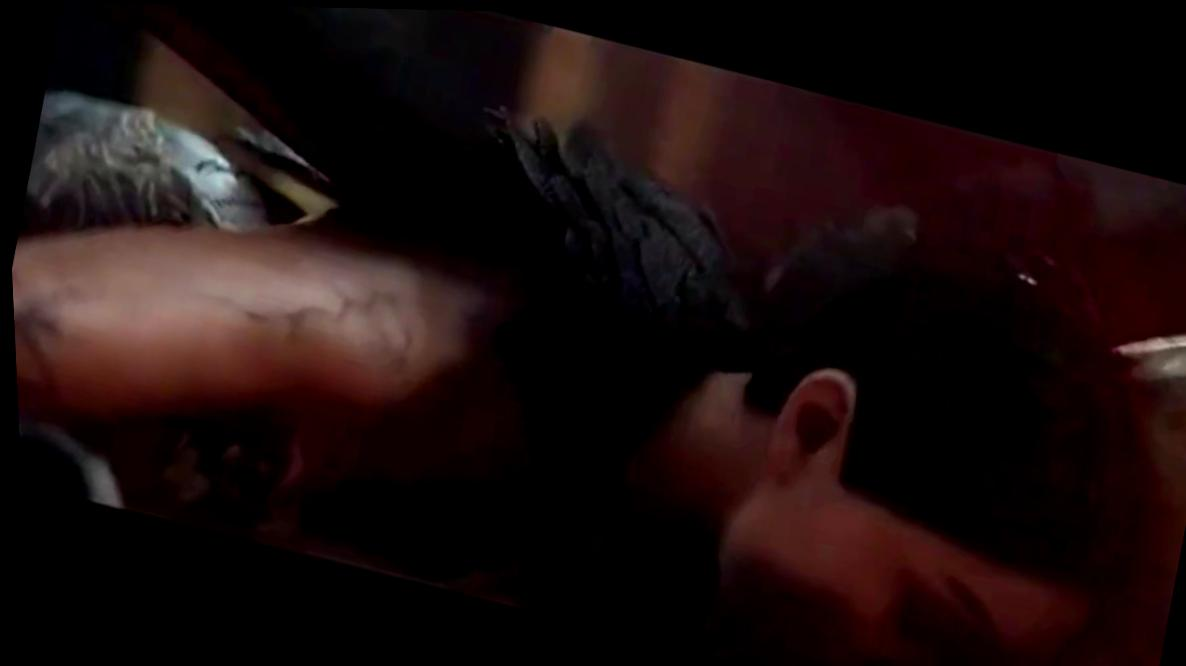Fire: (776, 83, 1186, 666)
